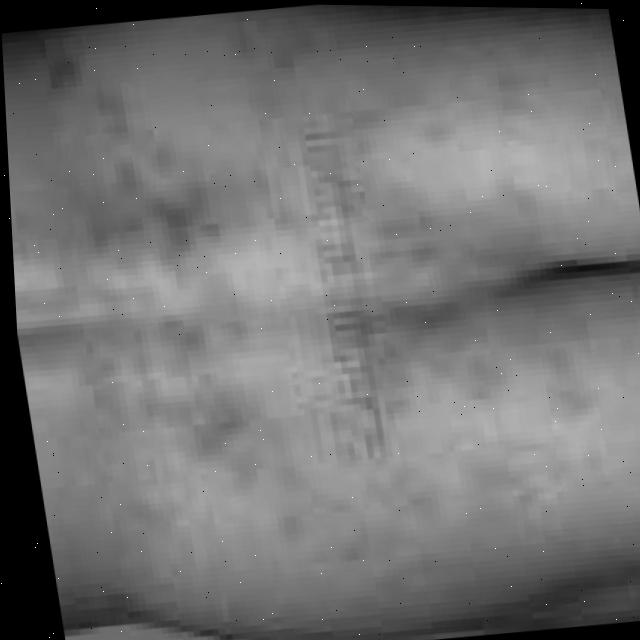Melasma: (18, 0, 619, 543)
